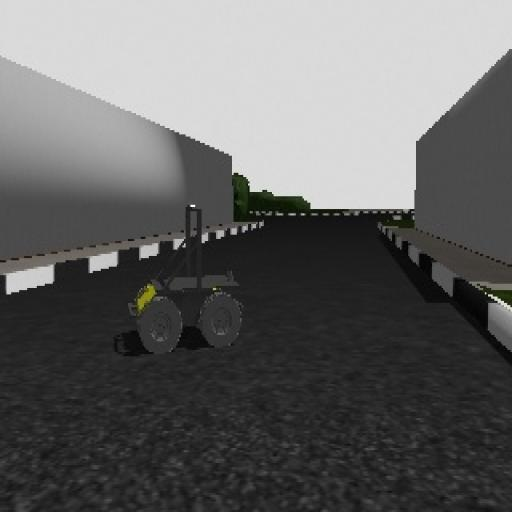huskya200: (122, 201, 254, 358)
